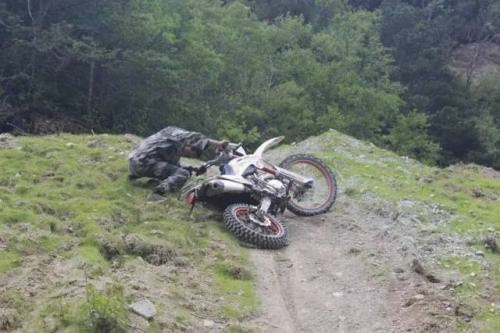falling: (121, 121, 234, 200)
